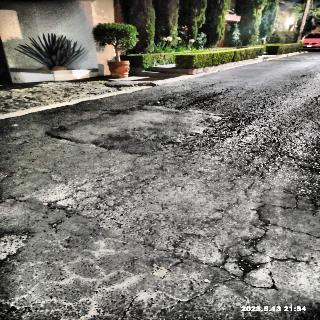alligator-crack: (118, 187, 320, 320), (11, 235, 175, 320), (160, 97, 318, 177)
